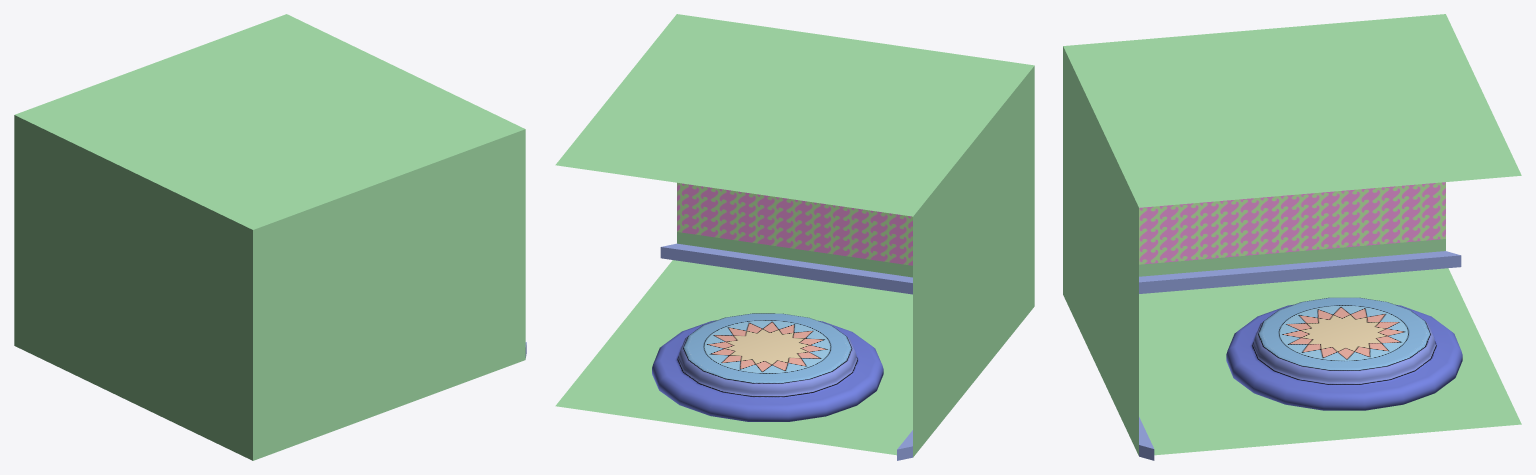
Rendered from studio.glb.
3 views of the same model, side by side, from view 1: azimuth 30°, elevation 25°; view 2: azimuth 150°, elevation 25°; view 3: azimuth 270°, elevation 25° (orthographic). The views are drawn at different scales.
Parts seen in each view (by area): view 1: Cube; view 2: Cube, StatuePodium, WallForTxt, WallForTxt.001; view 3: Cube, StatuePodium, WallForTxt, WallForTxt.001.
Part boxes in pixels (box(x1,y1,x2,y2)): Cube: box(14, 14, 525, 460); Cube: box(555, 14, 1034, 457); StatuePodium: box(652, 313, 883, 421); WallForTxt: box(677, 182, 912, 265); WallForTxt.001: box(660, 243, 912, 460); Cube: box(1063, 14, 1521, 455); StatuePodium: box(1226, 297, 1462, 410); WallForTxt: box(1139, 182, 1445, 264); WallForTxt.001: box(1139, 251, 1461, 460).
Size of the model in its own units: 6.35 by 3.72 by 6.21.
Materials: 4 (2 with a texture image).
